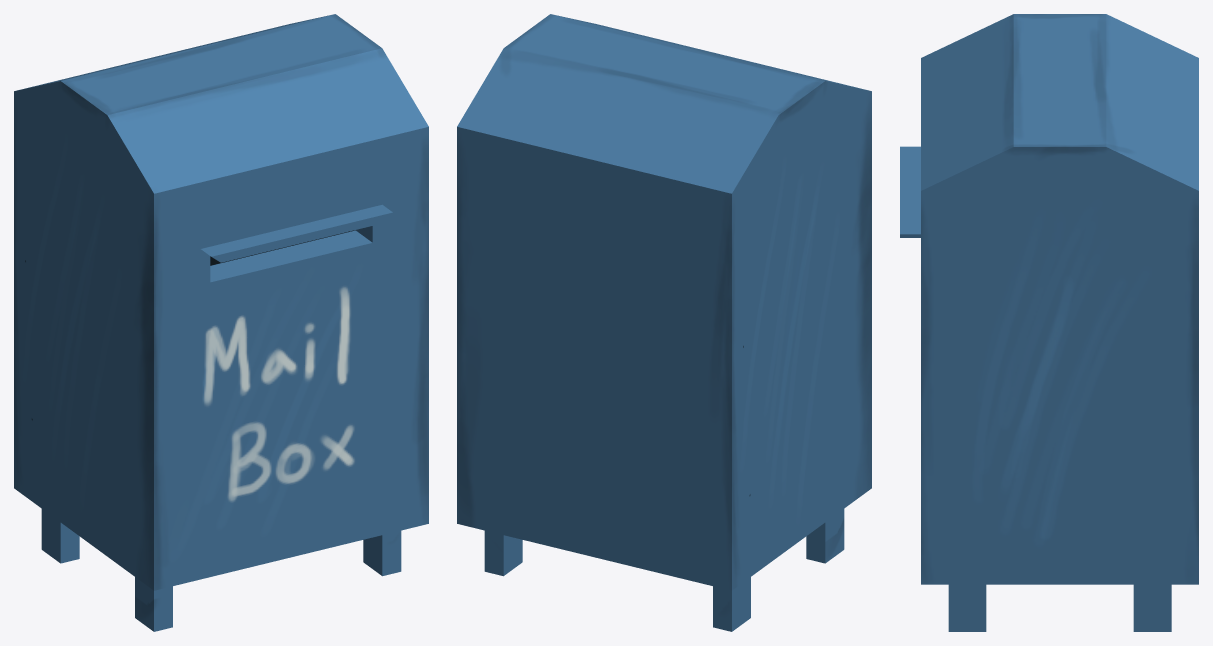
Rendered from MailBox_Medium.fbx.
3 renders of one model, left to right at view 1: azimuth 30°, elevation 25°; view 2: azimuth 150°, elevation 25°; view 3: azimuth 270°, elevation 25°, orthographic.
Visible parts, largest first — view 1: Cube.008; view 2: Cube.008; view 3: Cube.008.
Part boxes in pixels (<box>): Cube.008: <box>14,14,428,631</box>; Cube.008: <box>457,14,871,631</box>; Cube.008: <box>900,14,1198,631</box>.
Size of the model in its own units: 72.45 by 125 by 68.82.
